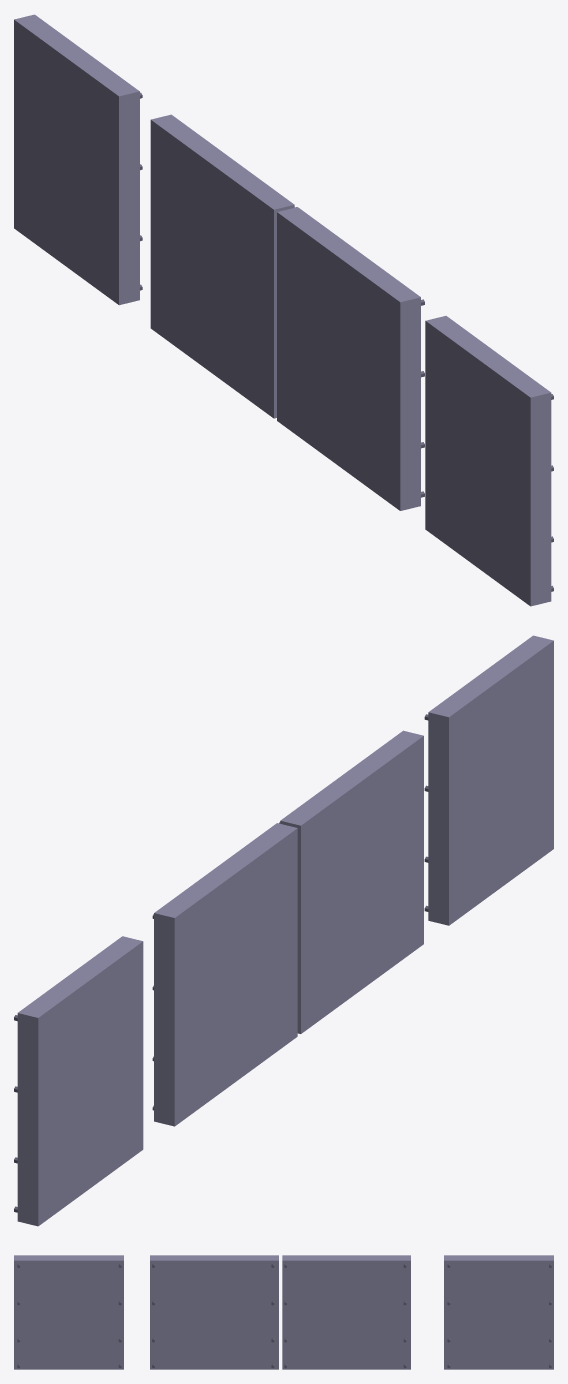
File: Observatory_Interior_Metal Tiled Wall_01.fbx
3 renders of one model, top to bottom at view 1: azimuth 30°, elevation 25°; view 2: azimuth 150°, elevation 25°; view 3: azimuth 270°, elevation 25°, orthographic. The views are drawn at different scales.
Parts seen in each view (by area): view 1: metal_tiled_wall; view 2: metal_tiled_wall; view 3: metal_tiled_wall.
Part boxes in pixels (x1,y1,x2,y2): metal_tiled_wall: (14, 14, 553, 606); metal_tiled_wall: (14, 635, 553, 1226); metal_tiled_wall: (14, 1255, 553, 1369).
Bounding box in the file's own units: 73.88 × 557 × 2498.
